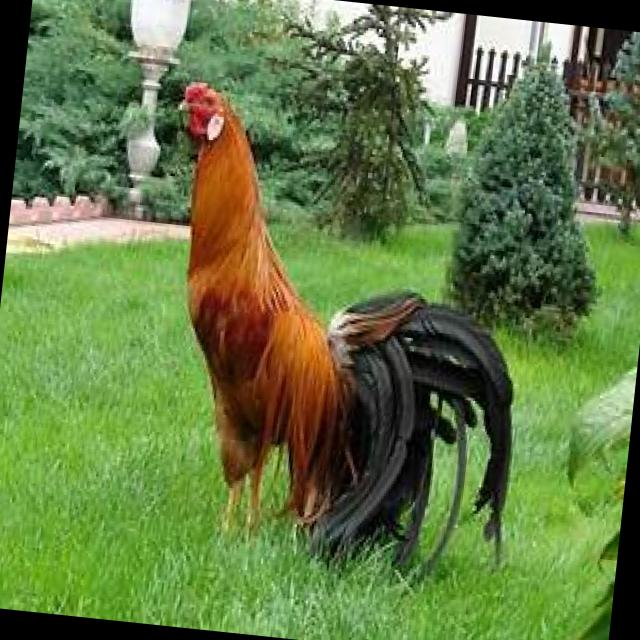chicken: (132, 78, 550, 594)
